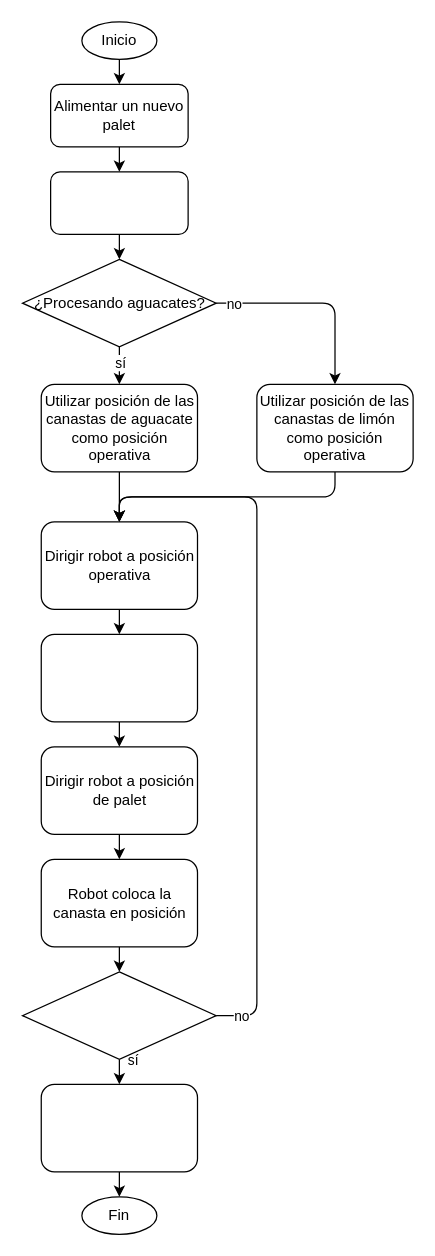
The diagram is 435 pixels wide and 1256 high, and some of its shapes have lost their labels. Each missing label, with the centre of its shape:
"Recepción de canastas" goes at pixel 118 202.
"Robot agarra la canasta" goes at pixel 119 677.
"Transportar palet a la salida de la celda" goes at pixel 119 1127.
"¿Palet completado?" goes at pixel 118 1015.
